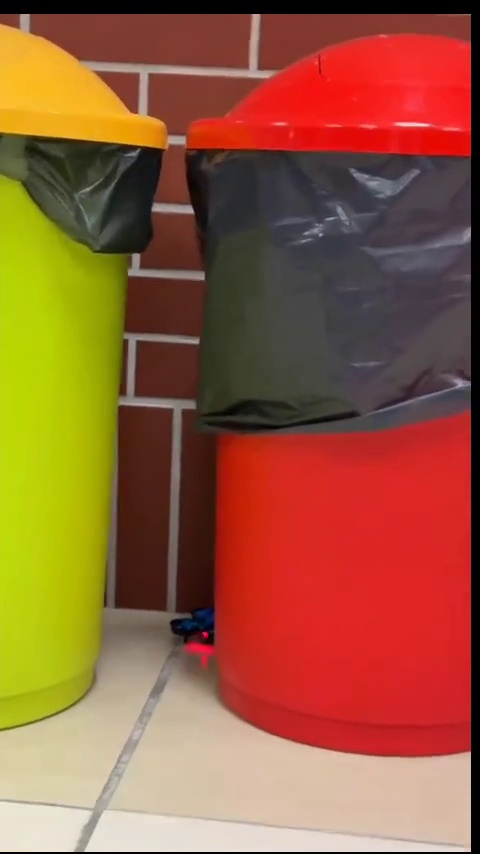drone: (169, 606, 217, 649)
